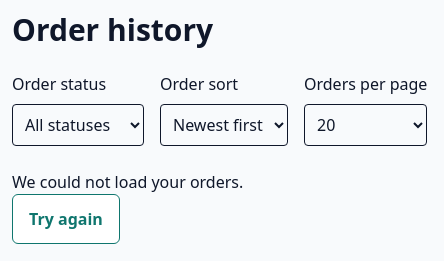
Test: history error retries to empty state
expect the text "We could not load your orders." is shown: met, box left=12, top=171, right=243, bottom=193
Click the button "Try again": [66, 219] box left=12, top=194, right=120, bottom=244
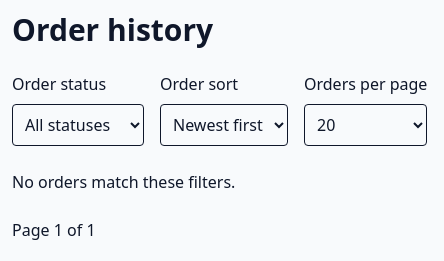
expect the text "No orders match these filters." is shown: met, box left=12, top=171, right=235, bottom=193
